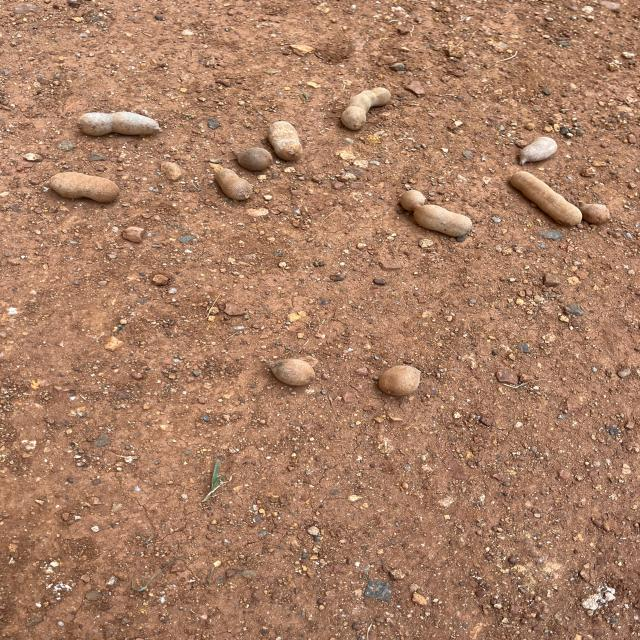tamarind: (394, 188, 474, 238), (511, 170, 582, 224), (338, 86, 393, 134), (50, 172, 122, 205), (80, 112, 161, 137), (376, 364, 422, 397), (261, 356, 313, 384), (269, 120, 305, 160), (216, 167, 254, 202), (518, 136, 560, 167), (228, 146, 274, 172), (577, 198, 612, 224)
